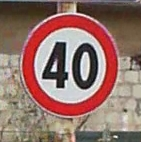limite 40: (18, 11, 121, 119)
